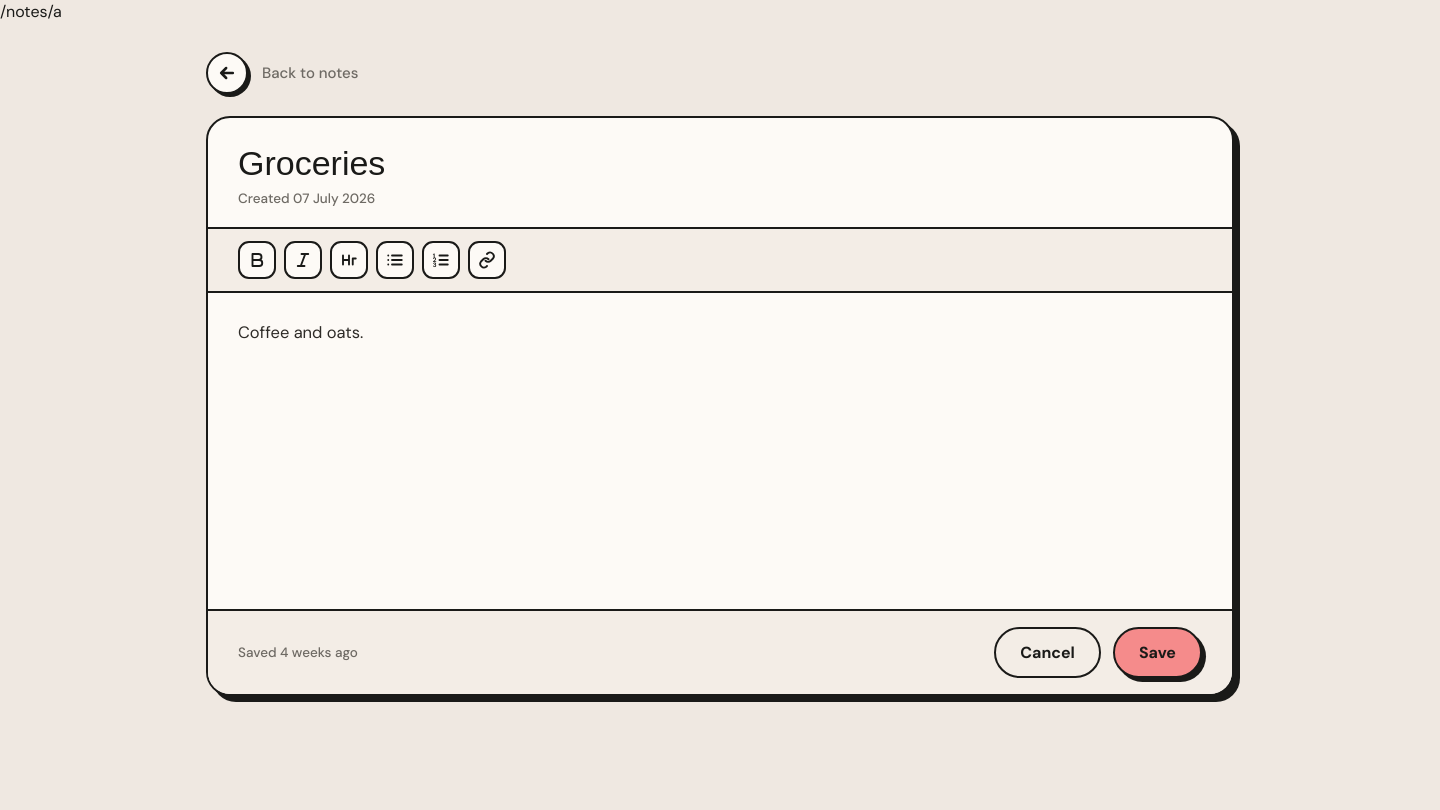
NoteEditorPage › leaving with unsaved work › asks when the back link is used too
This screenshot has width=1440, height=810.
Type "!" into the field named "Note title" at x=720, y=164, box left=238, top=144, right=1202, bottom=183
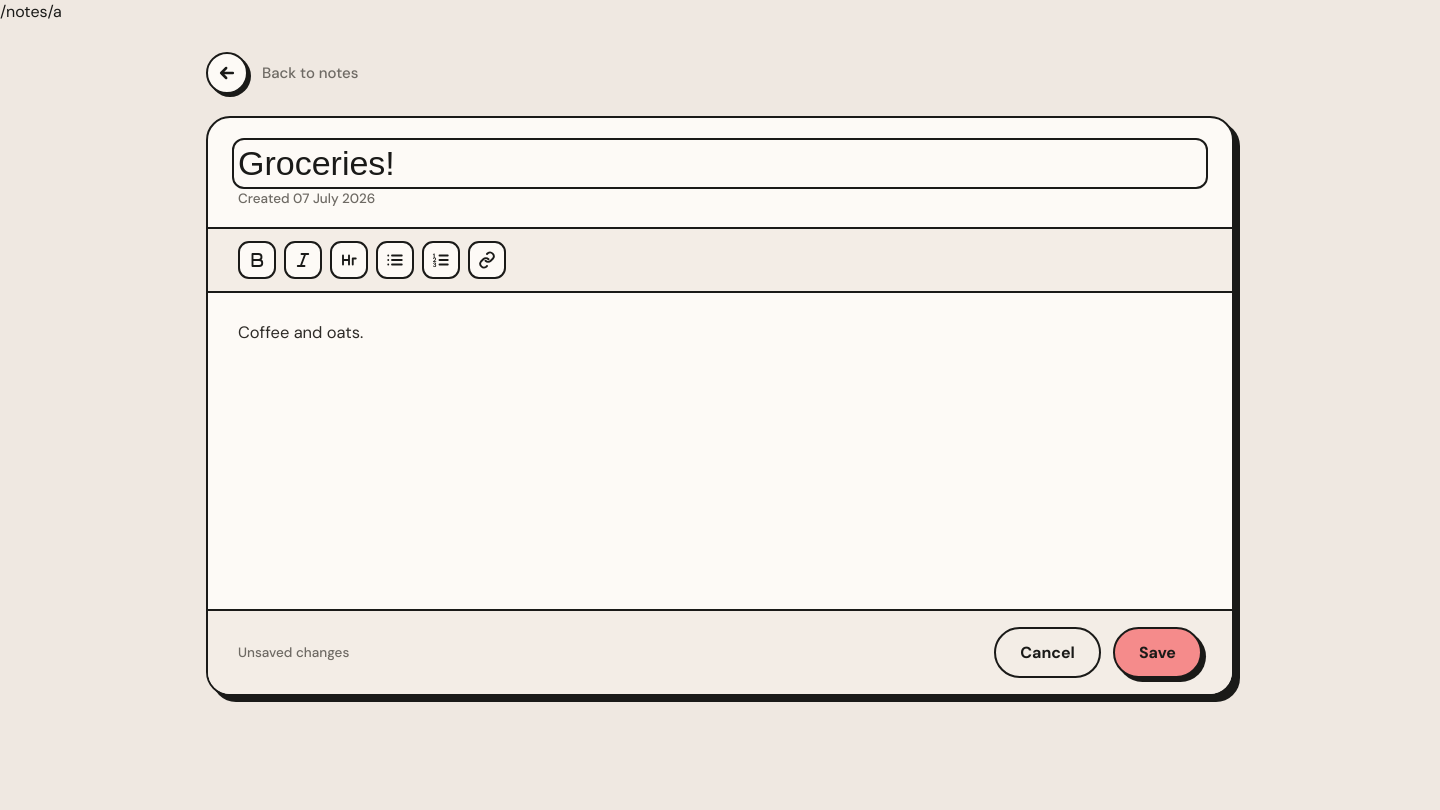
Click the link "Back to notes" at x=282, y=73, box left=206, top=52, right=358, bottom=94
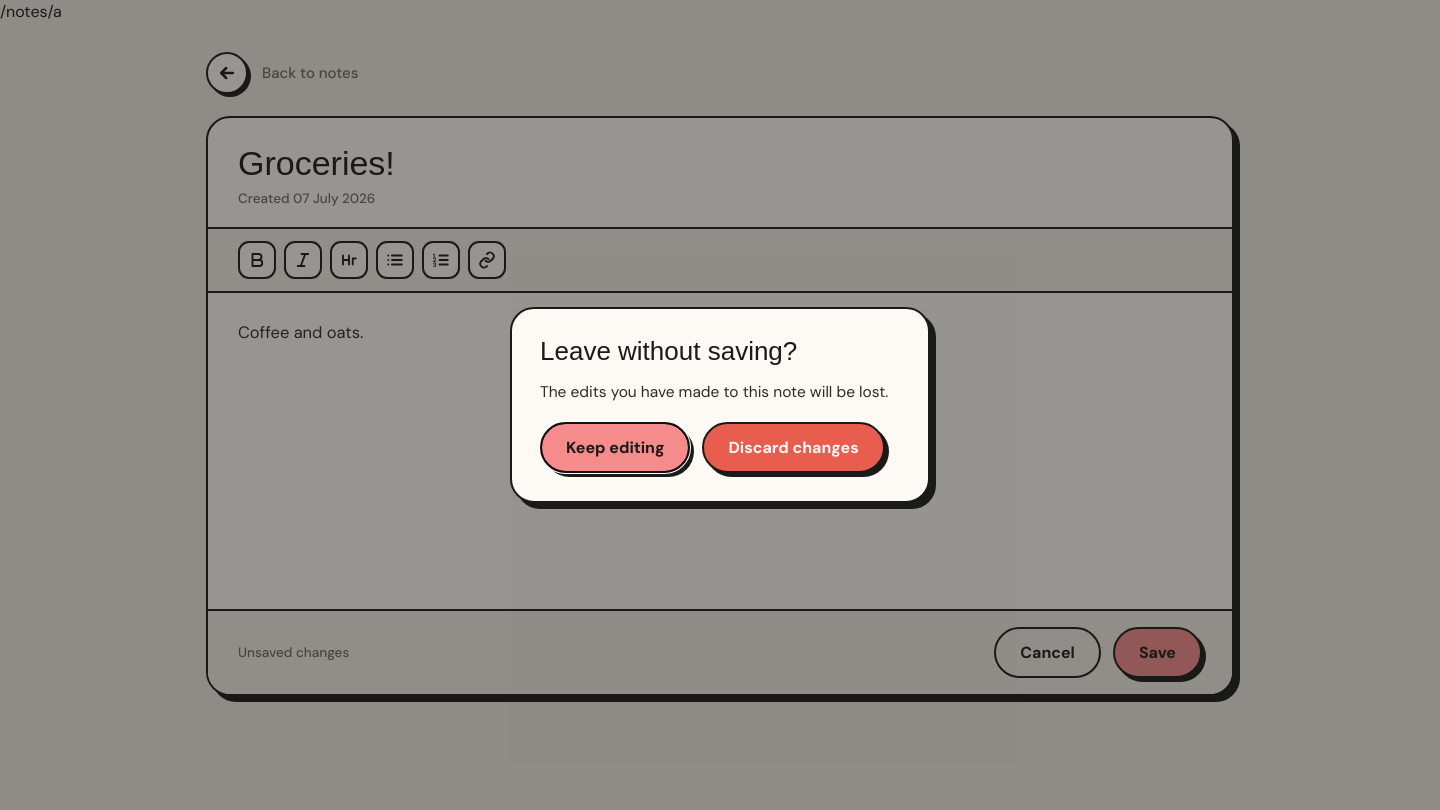
Expected: the text with test id "path" reads "/notes/a", left=0, top=1, right=62, bottom=22
Expected: the dialog is shown, left=510, top=307, right=930, bottom=503
